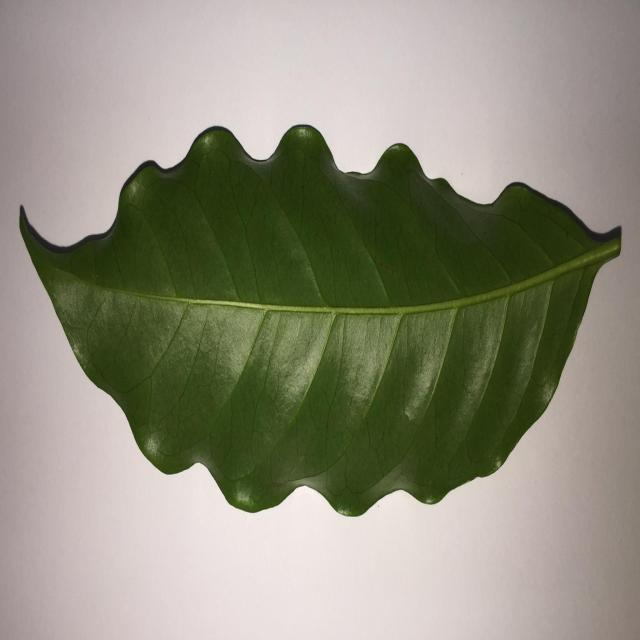Sanas: (16, 124, 623, 520)
